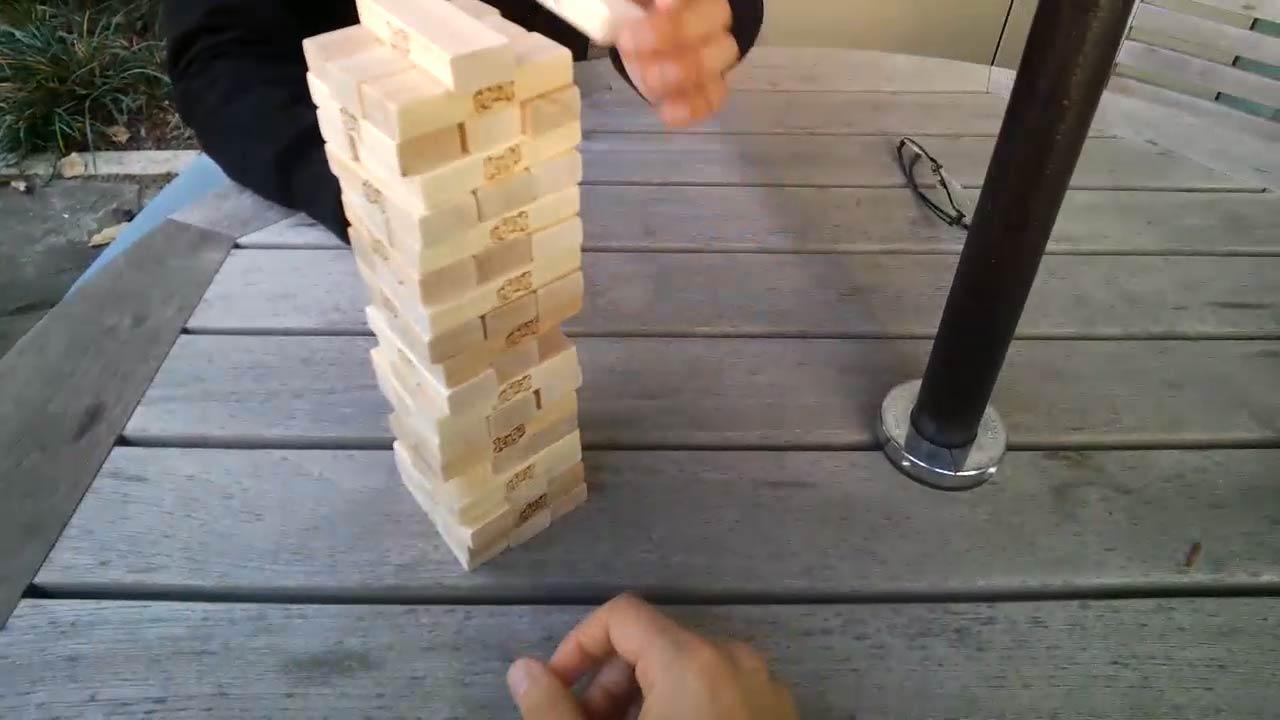hand: (508, 588, 817, 720), (614, 1, 744, 127)
